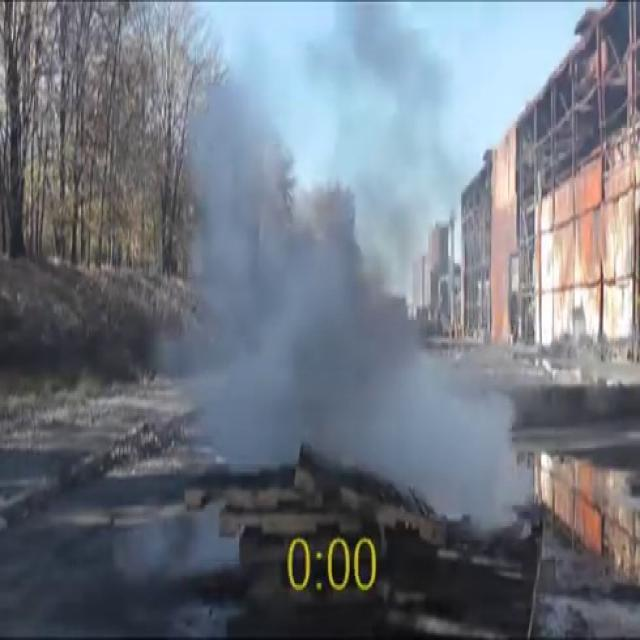Smoke: (127, 73, 518, 521)
